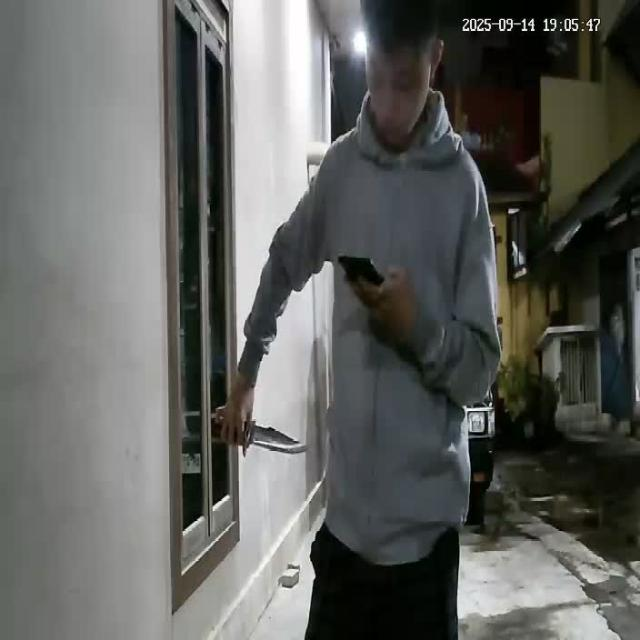senjata_tajam: (242, 420, 311, 456)
